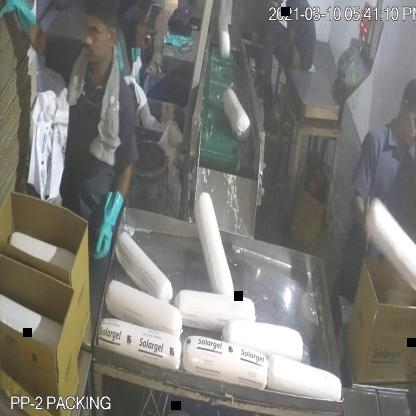glove: (88, 172, 130, 272), (0, 0, 42, 40)
no_glove: (344, 180, 382, 256)
